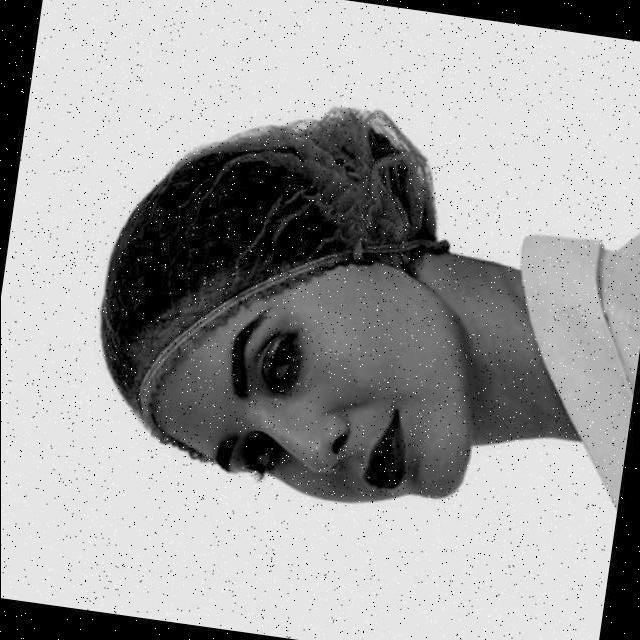gloves: (125, 102, 437, 296)
